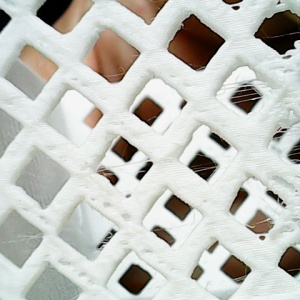3dpstringing: (100, 154, 159, 193), (216, 76, 271, 112), (241, 202, 290, 241), (271, 110, 298, 170), (149, 214, 201, 239), (1, 227, 46, 250), (191, 154, 224, 183), (94, 227, 120, 251), (104, 67, 135, 83), (230, 268, 256, 285), (226, 2, 245, 18), (141, 114, 158, 127)
3dpunderextrusion: (56, 251, 106, 294), (93, 193, 138, 227), (266, 171, 300, 208)
